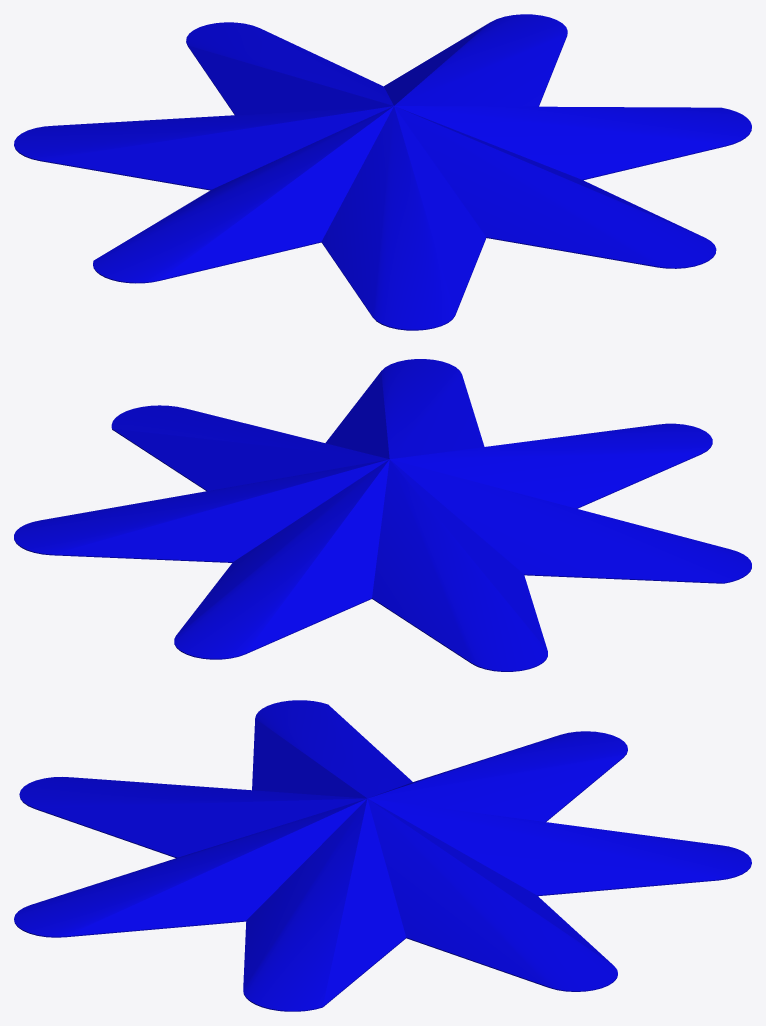
The model's file is starfish.fbx.
3 renders of one model, top to bottom at view 1: azimuth 30°, elevation 25°; view 2: azimuth 150°, elevation 25°; view 3: azimuth 270°, elevation 25°, orthographic.
Parts seen in each view (by area): view 1: starfish; view 2: starfish; view 3: starfish.
Boxes of the visible parts, x1=… form: starfish: x1=14, y1=14, x2=751, y2=330; starfish: x1=14, y1=359, x2=751, y2=671; starfish: x1=14, y1=700, x2=751, y2=1011.
Bounding box in the file's own units: 17.78 × 1.67 × 17.71.
